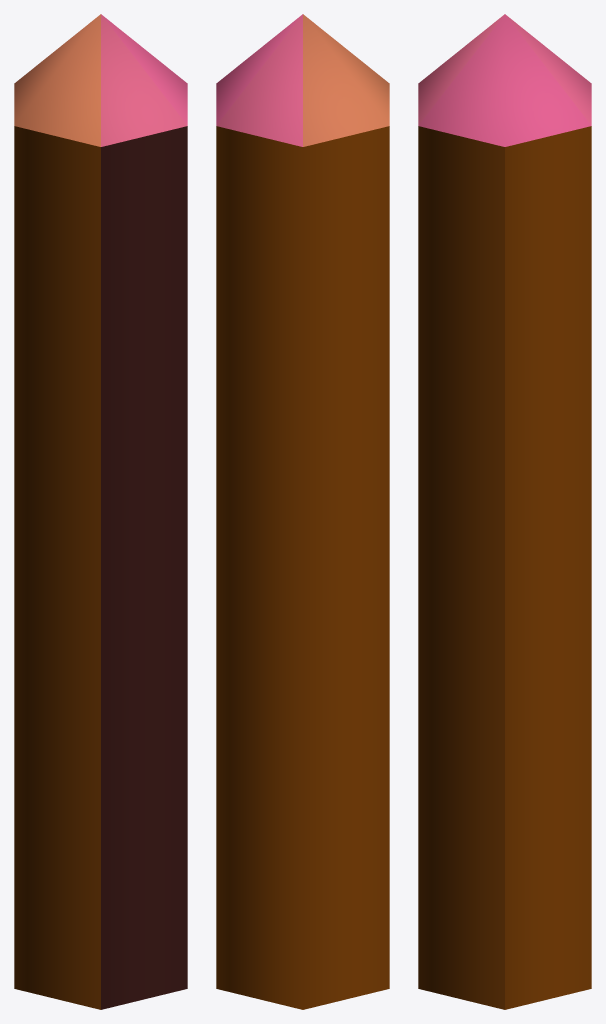
Rendered from Solo.RocketMesh.UmberWilds.glb.
The picture shows the model from 3 angles, left to right: view 1: azimuth 30°, elevation 25°; view 2: azimuth 150°, elevation 25°; view 3: azimuth 270°, elevation 25°; orthographic projection.
Parts seen in each view (by area): view 1: Solo.RocketMesh.UmberWilds; view 2: Solo.RocketMesh.UmberWilds; view 3: Solo.RocketMesh.UmberWilds.
Part boxes in pixels (x1,y1,x2,y2): Solo.RocketMesh.UmberWilds: (14, 14, 187, 1009); Solo.RocketMesh.UmberWilds: (216, 14, 389, 1009); Solo.RocketMesh.UmberWilds: (418, 14, 591, 1009).
Bounding box in the file's own units: 0.2 × 1.05 × 0.1732.
Materials: 1 (1 with a texture image).
